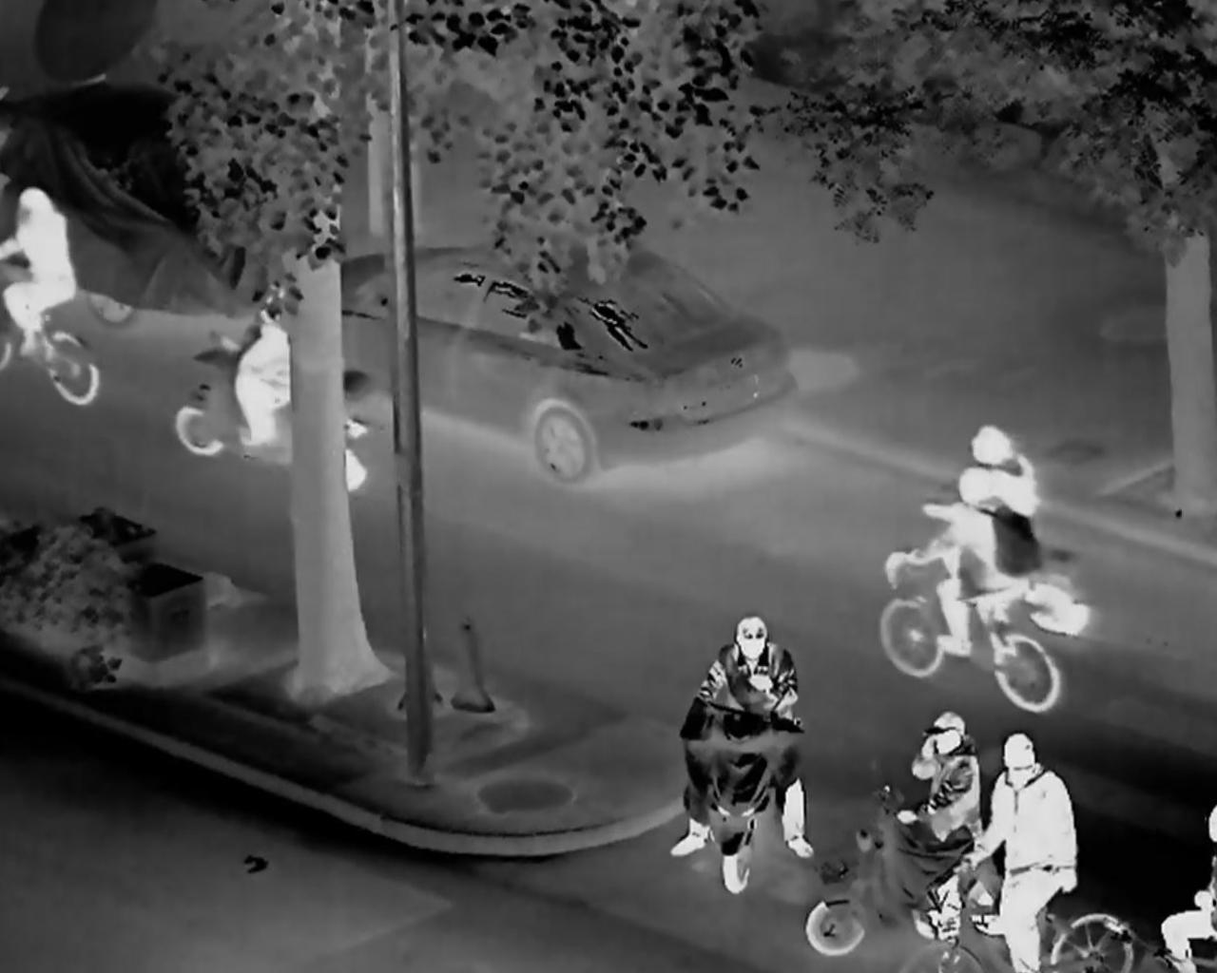person: (679, 607, 830, 863), (968, 732, 1094, 973), (934, 474, 1033, 691), (893, 712, 982, 933), (231, 272, 335, 444), (965, 417, 1044, 639), (2, 180, 86, 366)
